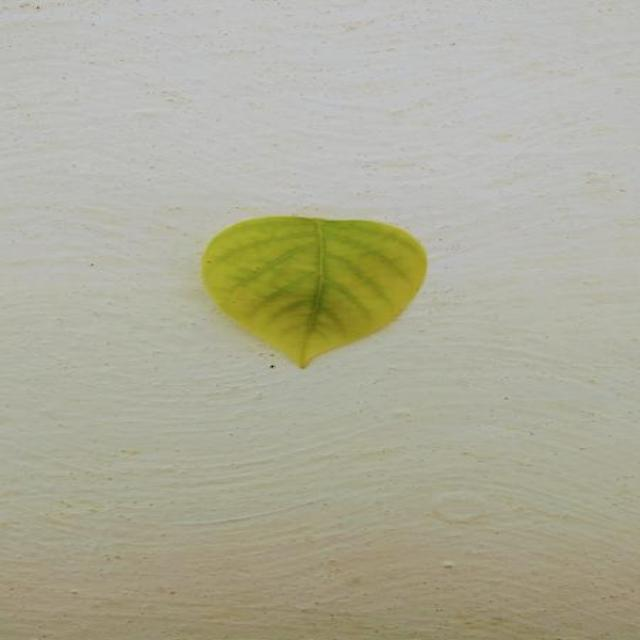honge: (202, 216, 427, 367)
